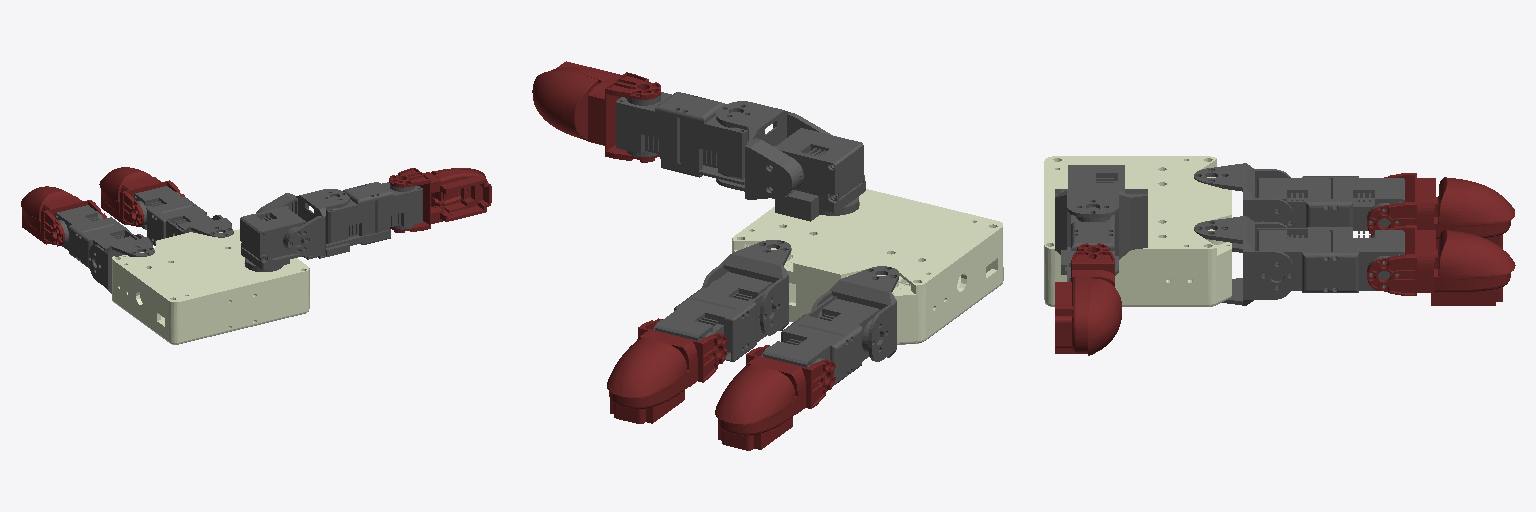
URDF robot description (GX10v2):
<?xml version="1.0" encoding="utf-8"?>
<!-- This URDF was automatically created by SolidWorks to URDF Exporter! Originally created by [author] ([email redacted]) 
     Commit Version: 1.6.0-4-g7f85cfe  Build Version: 1.6.7995.38578
     For more information, please see http://wiki.ros.org/sw_urdf_exporter -->
<robot
  name="GX10v2">
  <link
    name="base_link">
    <inertial>
      <origin
        xyz="0.0039750788871368 0.0455482018465749 -0.00143347464056486"
        rpy="0 0 0" />
      <mass
        value="0.135870626687155" />
      <inertia
        ixx="7.38321832755782E-05"
        ixy="1.98734656903139E-06"
        ixz="-1.07901519375653E-06"
        iyy="9.5174338728937E-05"
        iyz="5.86533936872062E-07"
        izz="0.000153413927705737" />
    </inertial>
    <visual>
      <origin
        xyz="0 0 0"
        rpy="0 0 0" />
      <geometry>
        <mesh
          filename="../meshes/base_link.STL" />
      </geometry>
      <material name="gray">
        <color rgba="0.885 0.915 0.8 1"/>
      </material>
    </visual>
    <collision>
      <origin
        xyz="0 0 0"
        rpy="0 0 0" />
      <geometry>
        <mesh
          filename="../meshes/base_link.STL" />
      </geometry>
    </collision>
  </link>
  <link
    name="Link1">
    <inertial>
      <origin
        xyz="0.00662450278449252 0.000415490358648386 0.0157783938235043"
        rpy="0 0 0" />
      <mass
        value="0.0231992249064679" />
      <inertia
        ixx="1.85082212815086E-06"
        ixy="-1.619953963784E-08"
        ixz="-5.5476524200843E-08"
        iyy="2.7981516827345E-06"
        iyz="4.03956057213457E-08"
        izz="3.36690848839015E-06" />
    </inertial>
    <visual>
      <origin
        xyz="0 0 0"
        rpy="0 0 0" />
      <geometry>
        <mesh
          filename="../meshes/Link1.STL" />
      </geometry>
      <material name="gray">
        <color rgba="0.4 0.4 0.4 1"/>
      </material>
    </visual>
    <collision>
      <origin
        xyz="0 0 0"
        rpy="0 0 0" />
      <geometry>
        <mesh
          filename="../meshes/Link1.STL" />
      </geometry>
    </collision>
  </link>
  <joint
    name="joint1"
    type="revolute">
    <origin
      xyz="0.0284999999999998 0.0222000000000001 0.0147407332682075"
      rpy="0 0 0" />
    <parent
      link="base_link" />
    <child
      link="Link1" />
    <axis
      xyz="0 0 1" />
    <limit
      lower="-0.35"
      upper="1"
      effort="5"
      velocity="3.2" />
  </joint>
  <link
    name="Link2">
    <inertial>
      <origin
        xyz="0.0158365792198411 -0.0019013282398371 0.00388962594259469"
        rpy="0 0 0" />
      <mass
        value="0.0089743671891579" />
      <inertia
        ixx="2.05026514383584E-06"
        ixy="-7.30771318271227E-09"
        ixz="3.87885988540636E-08"
        iyy="1.97681405964466E-06"
        iyz="-1.51198701255591E-08"
        izz="1.83638405764408E-06" />
    </inertial>
    <visual>
      <origin
        xyz="0 0 0"
        rpy="0 0 0" />
      <geometry>
        <mesh
          filename="../meshes/Link2.STL" />
      </geometry>
      <material name="gray">
        <color rgba="0.4 0.4 0.4 1"/>
      </material>
    </visual>
    <collision>
      <origin
        xyz="0 0 0"
        rpy="0 0 0" />
      <geometry>
        <mesh
          filename="../meshes/Link2.STL" />
      </geometry>
    </collision>
  </link>
  <joint
    name="joint2"
    type="revolute">
    <origin
      xyz="0.0149999999999997 0 0.017"
      rpy="-1.5707963267949 0 0" />
    <parent
      link="Link1" />
    <child
      link="Link2" />
    <axis
      xyz="0 0 -1" />
    <limit
      lower="0"
      upper="2.2"
      effort="5"
      velocity="3.2" />
  </joint>
  <link
    name="Link3">
    <inertial>
      <origin
        xyz="0.0242241323805044 -6.68785860891141E-05 0.000158980228424407"
        rpy="0 0 0" />
      <mass
        value="0.0348712226438575" />
      <inertia
        ixx="2.77575713754536E-06"
        ixy="-3.68455440422222E-08"
        ixz="8.93966337209342E-09"
        iyy="5.05984189740564E-06"
        iyz="2.87621041554904E-09"
        izz="4.48405282895554E-06" />
    </inertial>
    <visual>
      <origin
        xyz="0 0 0"
        rpy="0 0 0" />
      <geometry>
        <mesh
          filename="../meshes/Link3.STL" />
      </geometry>
      <material name="gray">
        <color rgba="0.4 0.4 0.4 1"/>
      </material>
    </visual>
    <collision>
      <origin
        xyz="0 0 0"
        rpy="0 0 0" />
      <geometry>
        <mesh
          filename="../meshes/Link3.STL" />
      </geometry>
    </collision>
  </link>
  <joint
    name="joint3"
    type="revolute">
    <origin
      xyz="0.035624993619291 -0.00320000000000058 0.000118338320757781"
      rpy="1.5707963267949 0 0" />
    <parent
      link="Link2" />
    <child
      link="Link3" />
    <axis
      xyz="0 0 -1" />
    <limit
      lower="-1.57"
      upper="0"
      effort="5"
      velocity="3.2" />
  </joint>
  <link
    name="Link4">
    <inertial>
      <origin
        xyz="0.004078097747542 -6.65938619318074E-08 1.87350135405495E-16"
        rpy="0 0 0" />
      <mass
        value="0.00125017090070062" />
      <inertia
        ixx="2.40014433117899E-08"
        ixy="7.97359704647395E-13"
        ixz="-6.00739919866636E-23"
        iyy="4.714630827854E-08"
        iyz="-6.1456316106326E-23"
        izz="7.01339739927325E-08" />
    </inertial>
    <visual>
      <origin
        xyz="0 0 0"
        rpy="0 0 0" />
      <geometry>
        <mesh
          filename="../meshes_tactile/Link4.STL" />
      </geometry>
      <material name="red">
        <color rgba="0.5 0.2 0.2 1"/>
      </material>
    </visual>
    <collision>
      <origin
        xyz="0 0 0"
        rpy="0 0 0" />
      <geometry>
        <mesh
          filename="../meshes_tactile/Link4.STL" />
      </geometry>
    </collision>
  </link>
  <joint
    name="joint4"
    type="revolute">
    <origin
      xyz="0.0489999999999997 0 0"
      rpy="0 0 0" />
    <parent
      link="Link3" />
    <child
      link="Link4" />
    <axis
      xyz="0 0 1" />
    <limit
      lower="0"
      upper="1.57"
      effort="5"
      velocity="3.2" />
  </joint>
  <link
    name="Link11">
    <inertial>
      <origin
        xyz="-9.21767670386542E-08 0.00306928186611687 -0.0285392731189463"
        rpy="0 0 0" />
      <mass
        value="0.016424831381844" />
      <inertia
        ixx="2.35088190988153E-06"
        ixy="-3.89199394672599E-11"
        ixz="1.56042920858166E-10"
        iyy="3.00563678043742E-06"
        iyz="3.51805491408575E-08"
        izz="1.31382809416214E-06" />
    </inertial>
    <visual>
      <origin
        xyz="0 0 0"
        rpy="0 0 0" />
      <geometry>
        <mesh
          filename="../meshes_tactile/Link11.STL" />
      </geometry>
      <material name="red">
        <color rgba="0.5 0.2 0.2 1"/>
      </material>
    </visual>
    <collision>
      <origin
        xyz="0 0 0"
        rpy="0 0 0" />
      <geometry>
        <mesh
          filename="../meshes_tactile/Link11.STL" />
      </geometry>
    </collision>
  </link>
  <joint
    name="joint11"
    type="fixed">
    <origin
      xyz="0.0599999999999635 -0.00241845943756577 0"
      rpy="0 1.5707963267949 0" />
    <parent
      link="Link4" />
    <child
      link="Link11" />
    <axis
      xyz="0 0 0" />
  </joint>
  <link
    name="Link5">
    <inertial>
      <origin
        xyz="0.0162461853224018 -0.000101448360790395 -7.27134416914077E-09"
        rpy="0 0 0" />
      <mass
        value="0.00521913649462284" />
      <inertia
        ixx="1.31586574929348E-06"
        ixy="-6.56410334836589E-10"
        ixz="4.40572207984356E-14"
        iyy="1.11288416894054E-06"
        iyz="3.84997945224234E-15"
        izz="1.03904978629202E-06" />
    </inertial>
    <visual>
      <origin
        xyz="0 0 0"
        rpy="0 0 0" />
      <geometry>
        <mesh
          filename="../meshes/Link5.STL" />
      </geometry>
      <material name="gray">
        <color rgba="0.4 0.4 0.4 1"/>
      </material>
    </visual>
    <collision>
      <origin
        xyz="0 0 0"
        rpy="0 0 0" />
      <geometry>
        <mesh
          filename="../meshes/Link5.STL" />
      </geometry>
    </collision>
  </link>
  <joint
    name="joint5"
    type="revolute">
    <origin
      xyz="0.0285 0.0765 0.000240733268207483"
      rpy="0 0 1.5707963267949" />
    <parent
      link="base_link" />
    <child
      link="Link5" />
    <axis
      xyz="0 0 -1" />
    <limit
      lower="-0.261"
      upper="0.698"
      effort="5"
      velocity="3.2" />
  </joint>
  <link
    name="Link6">
    <inertial>
      <origin
        xyz="0.0242546190515201 5.79783357082444E-05 -0.000169989840908991"
        rpy="0 0 0" />
      <mass
        value="0.0348416546367208" />
      <inertia
        ixx="2.77311011323647E-06"
        ixy="2.85716173954036E-08"
        ixz="-7.61150000860686E-09"
        iyy="5.03224286649115E-06"
        iyz="2.45601070890306E-09"
        izz="4.45404051204696E-06" />
    </inertial>
    <visual>
      <origin
        xyz="0 0 0"
        rpy="0 0 0" />
      <geometry>
        <mesh
          filename="../meshes/Link6.STL" />
      </geometry>
      <material name="gray">
        <color rgba="0.4 0.4 0.4 1"/>
      </material>
    </visual>
    <collision>
      <origin
        xyz="0 0 0"
        rpy="0 0 0" />
      <geometry>
        <mesh
          filename="../meshes/Link6.STL" />
      </geometry>
    </collision>
  </link>
  <joint
    name="joint6"
    type="revolute">
    <origin
      xyz="0.0300000000000001 0 0"
      rpy="-1.5707963267949 0 0" />
    <parent
      link="Link5" />
    <child
      link="Link6" />
    <axis
      xyz="0 0 1" />
    <limit
      lower="-1.57"
      upper="0"
      effort="5"
      velocity="3.2" />
  </joint>
  <link
    name="Link7">
    <inertial>
      <origin
        xyz="0.00407809774758212 6.65938560129309E-08 -2.77555756156289E-17"
        rpy="0 0 0" />
      <mass
        value="0.00125017090070063" />
      <inertia
        ixx="2.40014433117899E-08"
        ixy="-7.9735970425401E-13"
        ixz="6.20366426602066E-23"
        iyy="4.71463082785402E-08"
        iyz="7.72359779290719E-23"
        izz="7.01339739927327E-08" />
    </inertial>
    <visual>
      <origin
        xyz="0 0 0"
        rpy="0 0 0" />
      <geometry>
        <mesh
          filename="../meshes_tactile/Link7.STL" />
      </geometry>
      <material name="red">
        <color rgba="0.5 0.2 0.2 1"/>
      </material>
    </visual>
    <collision>
      <origin
        xyz="0 0 0"
        rpy="0 0 0" />
      <geometry>
        <mesh
          filename="../meshes_tactile/Link7.STL" />
      </geometry>
    </collision>
  </link>
  <joint
    name="joint7"
    type="revolute">
    <origin
      xyz="0.0489999999999997 0 0"
      rpy="0 0 0" />
    <parent
      link="Link6" />
    <child
      link="Link7" />
    <axis
      xyz="0 0 -1" />
    <limit
      lower="0"
      upper="1.570796"
      effort="5"
      velocity="3.2" />
  </joint>
  <link
    name="Link12">
    <inertial>
      <origin
        xyz="8.74489540433898E-08 -0.00306937366056561 -0.0285392684845549"
        rpy="0 0 0" />
      <mass
        value="0.0164248382176841" />
      <inertia
        ixx="2.35088219752713E-06"
        ixy="-3.86015817979145E-11"
        ixz="-1.52855440725576E-10"
        iyy="3.00563985314037E-06"
        iyz="-3.5179315937629E-08"
        izz="1.31382979719753E-06" />
    </inertial>
    <visual>
      <origin
        xyz="0 0 0"
        rpy="0 0 0" />
      <geometry>
        <mesh
          filename="../meshes_tactile/Link12.STL" />
      </geometry>
      <material name="red">
        <color rgba="0.5 0.2 0.2 1"/>
      </material>
    </visual>
    <collision>
      <origin
        xyz="0 0 0"
        rpy="0 0 0" />
      <geometry>
        <mesh
          filename="../meshes_tactile/Link12.STL" />
      </geometry>
    </collision>
  </link>
  <joint
    name="joint12"
    type="fixed">
    <origin
      xyz="0.0600000000000002 0.00241854395832904 0"
      rpy="0 1.5707963267949 0" />
    <parent
      link="Link7" />
    <child
      link="Link12" />
    <axis
      xyz="0 0 0" />
  </joint>
  <link
    name="Link8">
    <inertial>
      <origin
        xyz="0.0162461853224018 0.000101448360790395 7.27134405811847E-09"
        rpy="0 0 0" />
      <mass
        value="0.00521913649462284" />
      <inertia
        ixx="1.31586574929348E-06"
        ixy="6.56410334836076E-10"
        ixz="-4.40572211870227E-14"
        iyy="1.11288416894054E-06"
        iyz="3.84997935711065E-15"
        izz="1.03904978629202E-06" />
    </inertial>
    <visual>
      <origin
        xyz="0 0 0"
        rpy="0 0 0" />
      <geometry>
        <mesh
          filename="../meshes/Link8.STL" />
      </geometry>
      <material name="gray">
        <color rgba="0.4 0.4 0.4 1"/>
      </material>
    </visual>
    <collision>
      <origin
        xyz="0 0 0"
        rpy="0 0 0" />
      <geometry>
        <mesh
          filename="../meshes/Link8.STL" />
      </geometry>
    </collision>
  </link>
  <joint
    name="joint8"
    type="revolute">
    <origin
      xyz="-0.0285 0.0764999999999998 0.000240733268207556"
      rpy="0 0 1.5707963267949" />
    <parent
      link="base_link" />
    <child
      link="Link8" />
    <axis
      xyz="0 0 -1" />
    <limit
      lower="-0.698"
      upper="0.174"
      effort="5"
      velocity="3.2" />
  </joint>
  <link
    name="Link9">
    <inertial>
      <origin
        xyz="0.0242554858036839 -5.66067877701077E-05 -0.000193268577039479"
        rpy="0 0 0" />
      <mass
        value="0.0347918481270268" />
      <inertia
        ixx="2.76945374955726E-06"
        ixy="-2.84709486167063E-08"
        ixz="-7.13077682242384E-09"
        iyy="5.02759618349888E-06"
        iyz="-2.4487628101761E-09"
        izz="4.44603959218758E-06" />
    </inertial>
    <visual>
      <origin
        xyz="0 0 0"
        rpy="0 0 0" />
      <geometry>
        <mesh
          filename="../meshes/Link9.STL" />
      </geometry>
      <material name="gray">
        <color rgba="0.4 0.4 0.4 1"/>
      </material>
    </visual>
    <collision>
      <origin
        xyz="0 0 0"
        rpy="0 0 0" />
      <geometry>
        <mesh
          filename="../meshes/Link9.STL" />
      </geometry>
    </collision>
  </link>
  <joint
    name="joint9"
    type="revolute">
    <origin
      xyz="0.0300000000000002 0 0"
      rpy="1.5707963267949 0 0" />
    <parent
      link="Link8" />
    <child
      link="Link9" />
    <axis
      xyz="0 0 1" />
    <limit
      lower="0"
      upper="1.570796"
      effort="5"
      velocity="3.2" />
  </joint>
  <link
    name="Link10">
    <inertial>
      <origin
        xyz="0.00407809774758197 -6.65938561339278E-08 -2.94902990916057E-16"
        rpy="0 0 0" />
      <mass
        value="0.00125017090070062" />
      <inertia
        ixx="2.40014433117898E-08"
        ixy="7.97359703786918E-13"
        ixz="6.31268442681354E-23"
        iyy="4.714630827854E-08"
        iyz="2.27925271319829E-24"
        izz="7.01339739927324E-08" />
    </inertial>
    <visual>
      <origin
        xyz="0 0 0"
        rpy="0 0 0" />
      <geometry>
        <mesh
          filename="../meshes_tactile/Link10.STL" />
      </geometry>
      <material name="red">
        <color rgba="0.5 0.2 0.2 1"/>
      </material>
    </visual>
    <collision>
      <origin
        xyz="0 0 0"
        rpy="0 0 0" />
      <geometry>
        <mesh
          filename="../meshes_tactile/Link10.STL" />
      </geometry>
    </collision>
  </link>
  <joint
    name="joint10"
    type="revolute">
    <origin
      xyz="0.0489999999999996 0 0"
      rpy="0 0 0" />
    <parent
      link="Link9" />
    <child
      link="Link10" />
    <axis
      xyz="0 0 -1" />
    <limit
      lower="-1.570796"
      upper="0"
      effort="5"
      velocity="3.2" />
  </joint>
  <link
    name="Link13">
    <inertial>
      <origin
        xyz="9.98642309991971E-08 -0.00306937171373231 -0.028539272628434"
        rpy="0 0 0" />
      <mass
        value="0.0164248317291125" />
      <inertia
        ixx="2.35088169170666E-06"
        ixy="-3.87616311464334E-11"
        ixz="-1.54840043564783E-10"
        iyy="3.0056377398131E-06"
        iyz="-3.51792709490384E-08"
        izz="1.31382861241584E-06" />
    </inertial>
    <visual>
      <origin
        xyz="0 0 0"
        rpy="0 0 0" />
      <geometry>
        <mesh
          filename="../meshes_tactile/Link13.STL" />
      </geometry>
      <material name="red">
        <color rgba="0.5 0.2 0.2 1"/>
      </material>
    </visual>
    <collision>
      <origin
        xyz="0 0 0"
        rpy="0 0 0" />
      <geometry>
        <mesh
          filename="../meshes_tactile/Link13.STL" />
      </geometry>
    </collision>
  </link>
  <joint
    name="joint13"
    type="fixed">
    <origin
      xyz="0.06 -0.0024185 0"
      rpy="0 -1.5708 3.141593" />
    <parent
      link="Link10" />
    <child
      link="Link13" />
    <axis
      xyz="0 0 0" />
  </joint>
</robot>

--- Render facts (derived) ---
Views: 3 orthographic renders of the robot side by side, from view 1: azimuth 30°, elevation 25°; view 2: azimuth 150°, elevation 25°; view 3: azimuth 270°, elevation 25°.
Model GX10v2 with 14 links and 13 joints (10 revolute, 3 fixed), rooted at base_link, posed every joint at zero.
Links seen in each view (by area): view 1: base_link, Link3, Link4, Link1, Link2, Link9, Link6, Link10, Link7, Link8, Link12, Link13 (+1 smaller); view 2: base_link, Link3, Link1, Link6, Link9, Link2, Link7, Link10, Link5, Link4, Link8, Link12 (+2 smaller); view 3: base_link, Link6, Link9, Link7, Link2, Link5, Link4, Link10, Link12, Link13, Link8, Link11 (+2 smaller).
Link boxes in pixels (x1,y1,x2,y2): base_link: (112, 229, 309, 344); Link3: (326, 182, 422, 247); Link4: (389, 168, 491, 232); Link1: (240, 206, 308, 271); Link2: (256, 189, 349, 259); Link9: (55, 205, 138, 268); Link6: (134, 186, 214, 245); Link10: (22, 196, 106, 246); Link7: (101, 177, 184, 226); Link8: (89, 234, 154, 293); Link12: (99, 167, 151, 200); Link13: (21, 186, 73, 219); base_link: (732, 189, 1003, 344); Link3: (616, 92, 747, 184); Link1: (773, 128, 865, 221); Link6: (653, 272, 772, 361); Link9: (761, 296, 880, 385); Link2: (716, 101, 830, 199); Link7: (609, 318, 727, 423); Link10: (718, 345, 835, 450); Link5: (702, 240, 790, 335); Link4: (551, 61, 660, 162); Link8: (811, 266, 898, 361); Link12: (607, 338, 686, 397); base_link: (1044, 156, 1231, 306); Link6: (1257, 227, 1404, 292); Link9: (1257, 176, 1404, 233); Link7: (1367, 225, 1510, 305); Link2: (1055, 189, 1147, 275); Link5: (1194, 216, 1294, 305); Link4: (1055, 243, 1114, 353); Link10: (1367, 173, 1510, 248); Link12: (1438, 230, 1515, 279); Link13: (1438, 177, 1514, 226); Link8: (1194, 163, 1294, 252); Link11: (1088, 278, 1121, 355).
Size in the robot's own frame: 0.2386 by 0.2155 by 0.07 metres.
14 mesh visuals loaded from 14 distinct referenced files (14 binary STL).